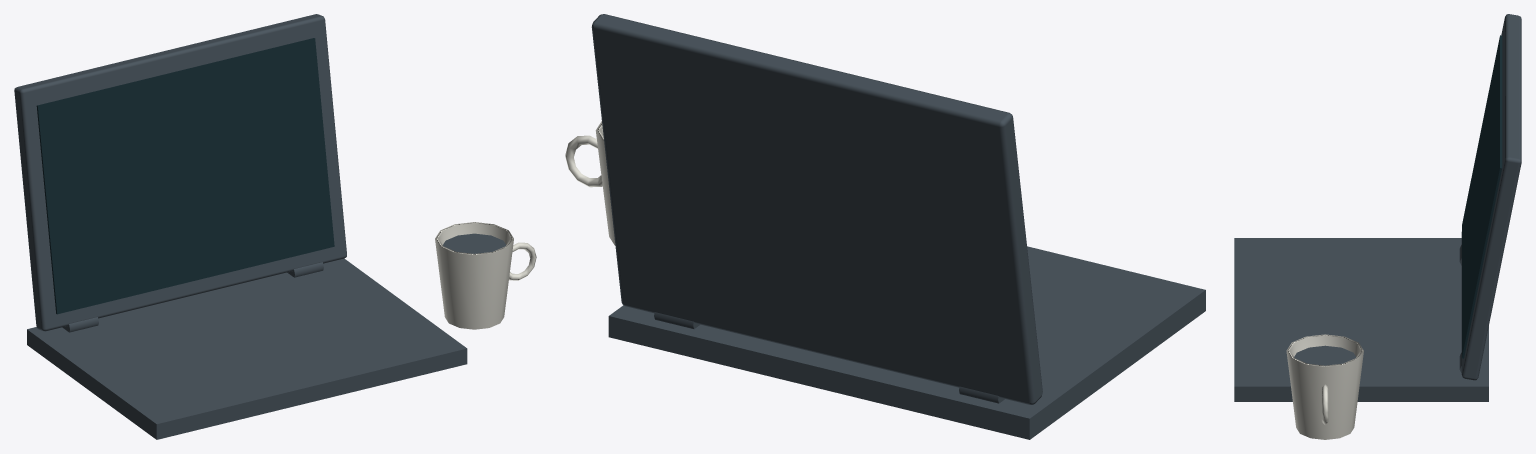
Rendered from accessory-2.glb.
The picture shows the model from 3 angles, left to right: view 1: azimuth 30°, elevation 25°; view 2: azimuth 150°, elevation 25°; view 3: azimuth 270°, elevation 25°; orthographic projection. The views are drawn at different scales.
Parts seen in each view (by area): view 1: accessory:2:editor; view 2: accessory:2:editor; view 3: accessory:2:editor.
Boxes of the visible parts, box(x1,y1,x2,y2) form: accessory:2:editor: box(14, 14, 536, 439); accessory:2:editor: box(565, 14, 1205, 439); accessory:2:editor: box(1234, 14, 1521, 439).
Size of the model in its own units: 0.398 by 0.2204 by 0.2371.
